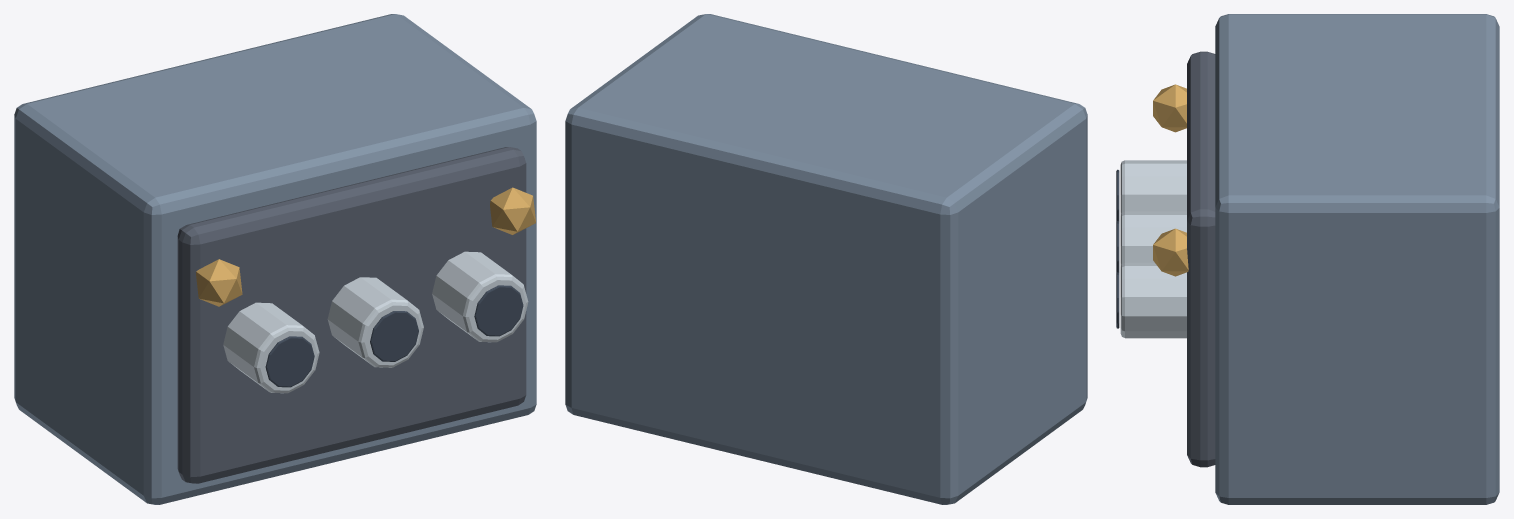
File: arrowLauncher.glb
The picture shows the model from 3 angles, left to right: view 1: azimuth 30°, elevation 25°; view 2: azimuth 150°, elevation 25°; view 3: azimuth 270°, elevation 25°; orthographic projection.
Parts seen in each view (by area): view 1: ArrowLauncher_Block, ArrowLauncher_Face, ArrowLauncher_Barrel.001, ArrowLauncher_Barrel, ArrowLauncher_Barrel.002, ArrowLauncher_DarkAperture.002, ArrowLauncher_DarkAperture, ArrowLauncher_DarkAperture.001, ArrowLauncher_Bolt, ArrowLauncher_Bolt.001; view 2: ArrowLauncher_Block; view 3: ArrowLauncher_Block, ArrowLauncher_Face, ArrowLauncher_Barrel.002, ArrowLauncher_Barrel, ArrowLauncher_Barrel.001, ArrowLauncher_Bolt.001, ArrowLauncher_Bolt.
Boxes of the visible parts, x1,y1,x2,y2 form: ArrowLauncher_Block: [14, 14, 536, 504]; ArrowLauncher_Face: [177, 147, 526, 483]; ArrowLauncher_Barrel.001: [327, 277, 423, 367]; ArrowLauncher_Barrel: [223, 302, 319, 393]; ArrowLauncher_Barrel.002: [432, 251, 528, 342]; ArrowLauncher_DarkAperture.002: [474, 285, 523, 336]; ArrowLauncher_DarkAperture: [265, 336, 314, 387]; ArrowLauncher_DarkAperture.001: [370, 311, 418, 361]; ArrowLauncher_Bolt: [196, 259, 242, 306]; ArrowLauncher_Bolt.001: [490, 187, 535, 234]; ArrowLauncher_Block: [565, 14, 1087, 504]; ArrowLauncher_Block: [1215, 14, 1499, 504]; ArrowLauncher_Face: [1187, 51, 1215, 467]; ArrowLauncher_Barrel.002: [1120, 262, 1186, 338]; ArrowLauncher_Barrel: [1120, 160, 1186, 215]; ArrowLauncher_Barrel.001: [1120, 211, 1186, 266]; ArrowLauncher_Bolt.001: [1153, 228, 1188, 276]; ArrowLauncher_Bolt: [1153, 84, 1186, 132].
Size of the model in its own units: 1.2 by 0.9 by 1.01.
